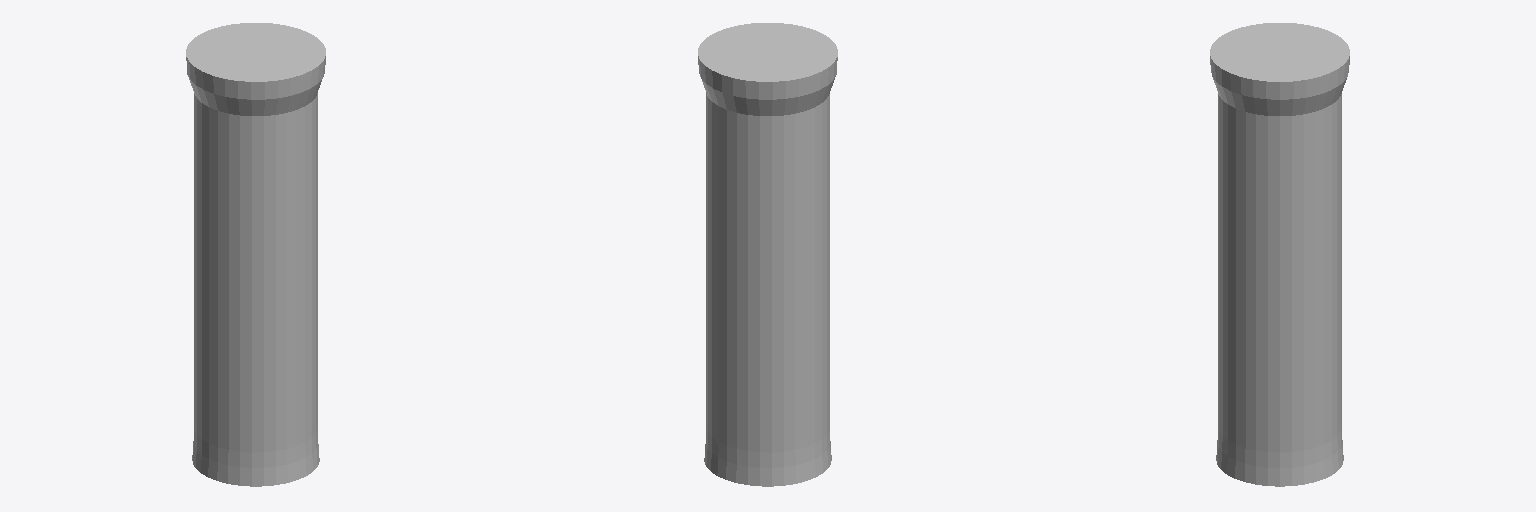
The model's file is zpillarpanel_continue.obj.
3 renders of one model, left to right at view 1: azimuth 30°, elevation 25°; view 2: azimuth 150°, elevation 25°; view 3: azimuth 270°, elevation 25°, orthographic.
Parts seen in each view (by area): view 1: Cylinder; view 2: Cylinder; view 3: Cylinder.
Boxes of the visible parts, x1,y1,x2,y2 form: Cylinder: [186, 23, 325, 486]; Cylinder: [698, 23, 837, 486]; Cylinder: [1210, 23, 1349, 486].
Size of the model in its own units: 3.68 by 11.75 by 3.68.